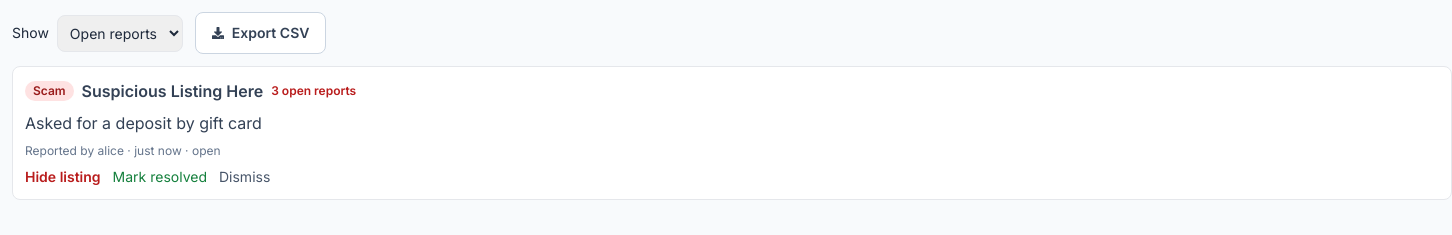
Test case: AdminReports › hides the listing with a reason, then reloads
Click the button "Hide listing" at (63,177), box left=25, top=167, right=101, bottom=187
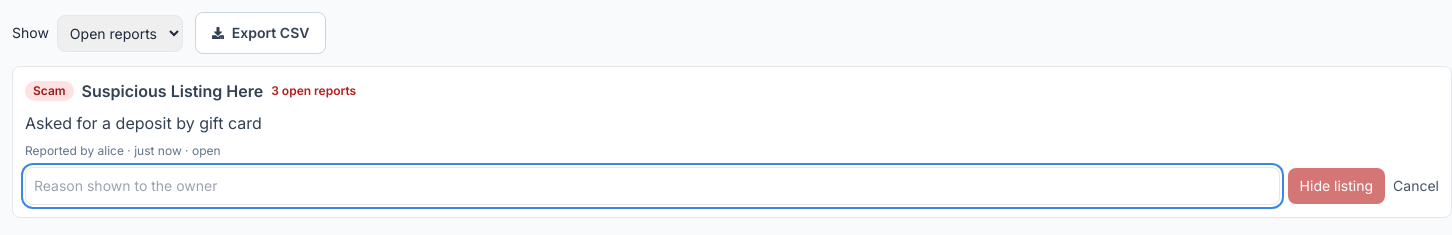
Type "Fake listing" into the field labelled "Reason shown to the owner" at (652,186), box left=25, top=167, right=1280, bottom=205
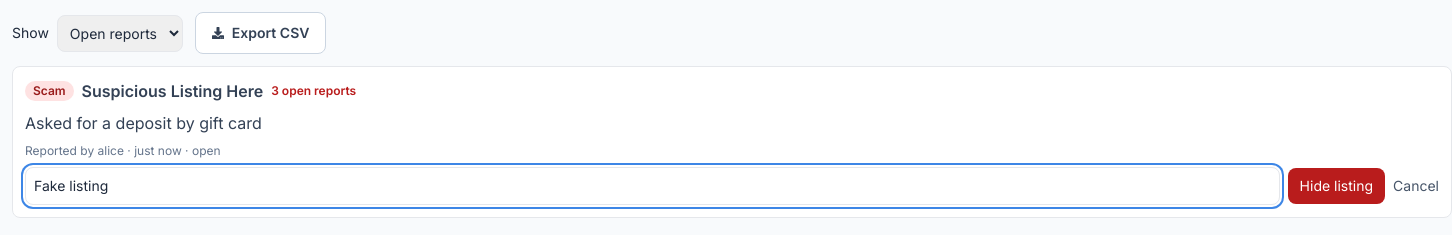
Click the button "Hide listing" at (1336,186), box left=1288, top=168, right=1385, bottom=204
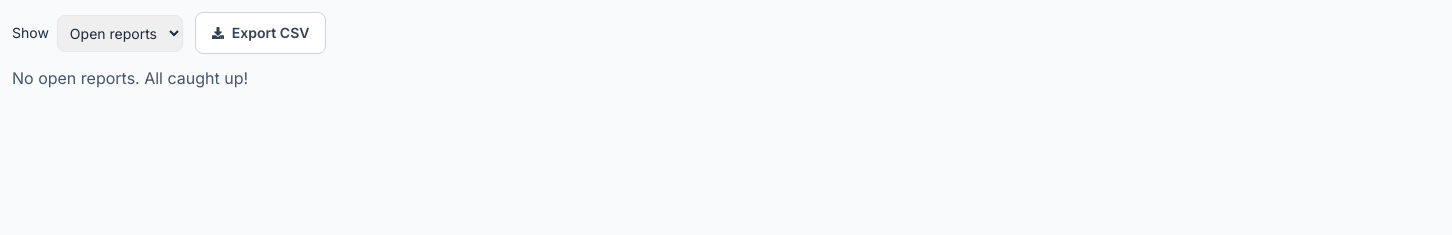
Check: the text "No open reports. All caught up!" is shown, box left=12, top=68, right=248, bottom=88
